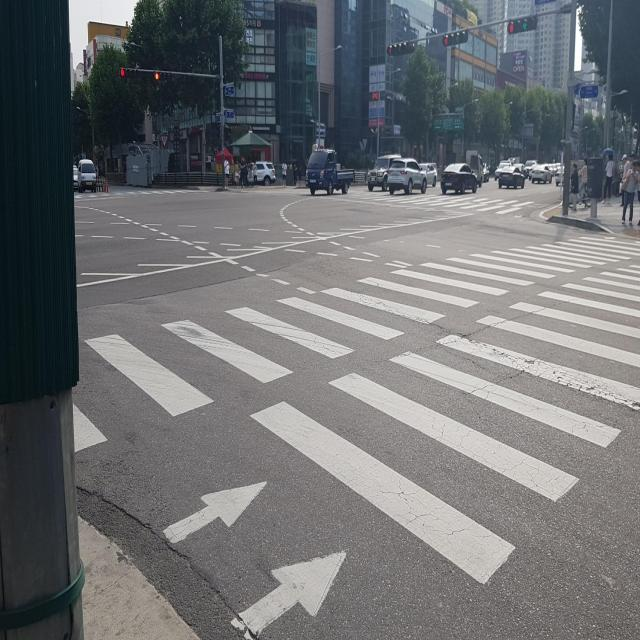횡단보도: (71, 233, 639, 640), (350, 187, 546, 217)
